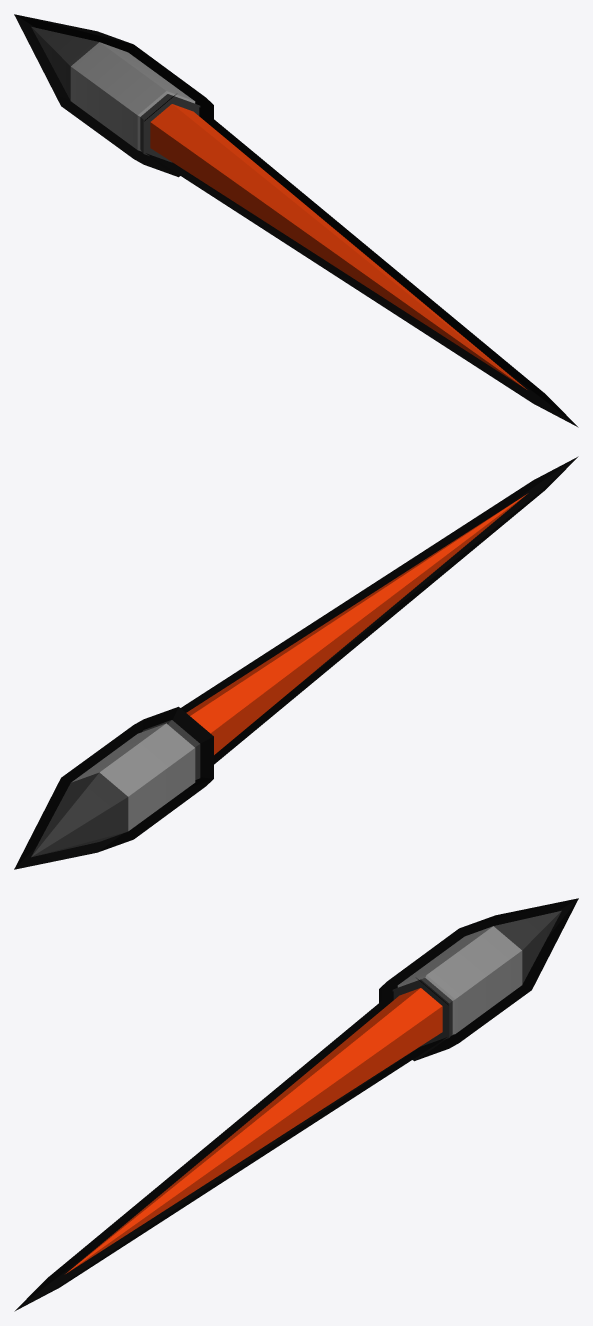
The model's file is bullet.fbx.
The picture shows the model from 3 angles, top to bottom: view 1: azimuth 30°, elevation 25°; view 2: azimuth 150°, elevation 25°; view 3: azimuth 330°, elevation 25°; orthographic projection.
Visible parts, largest first — view 1: Cylinder; view 2: Cylinder; view 3: Cylinder.
Boxes of the visible parts, x1,y1,x2,y2 form: Cylinder: (14, 14, 578, 427); Cylinder: (14, 456, 578, 869); Cylinder: (14, 898, 578, 1311).
Size of the model in its own units: 0.0619 by 0.832 by 0.0715.
